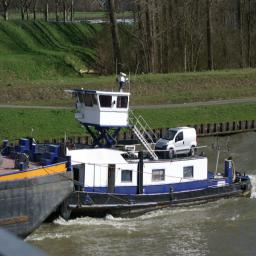tugboat: (24, 71, 255, 228)
